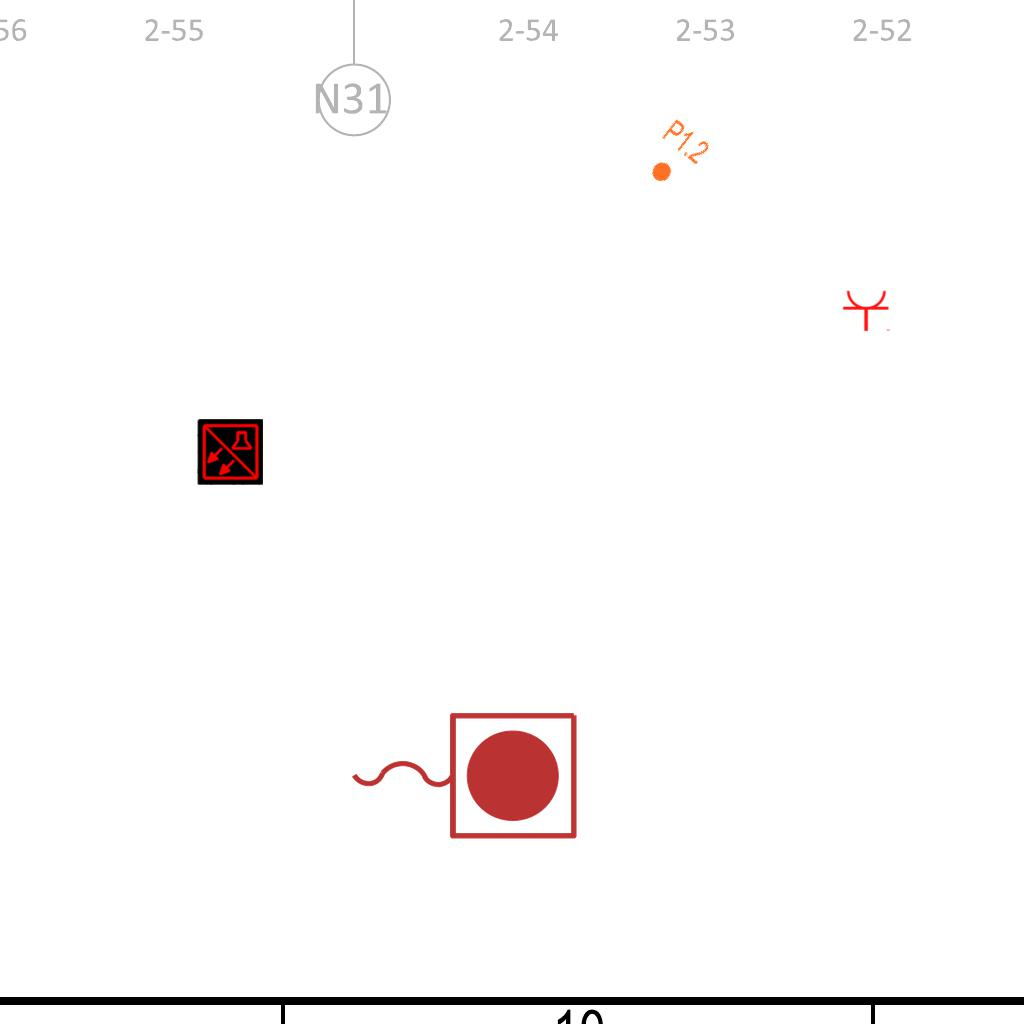Downlight_LED_Einbauleuchten_Flur: (637, 116, 713, 196)
OKW_Multisensormelder_(Kombination_optischer_Rauch-Kahlenmonoxid_Waerme-Melder): (197, 419, 263, 485)
Schukosteckdose_einfach: (842, 289, 892, 332)
Zugtaster: (341, 702, 585, 846)
